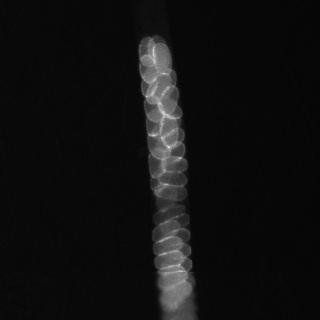embryo: (151, 68, 177, 99), (160, 283, 192, 308), (161, 270, 197, 292), (147, 73, 172, 103), (160, 114, 180, 148), (149, 163, 174, 190), (147, 35, 168, 67), (154, 250, 185, 270), (154, 185, 180, 208), (152, 42, 171, 73), (139, 54, 159, 83), (158, 85, 178, 114), (147, 135, 171, 159), (153, 220, 180, 241), (153, 236, 184, 254), (144, 97, 165, 123), (154, 184, 186, 201), (153, 206, 187, 222), (158, 267, 187, 285), (158, 98, 182, 119), (139, 37, 156, 66), (146, 109, 164, 136), (164, 141, 185, 163), (160, 156, 187, 173), (148, 154, 166, 179), (159, 172, 187, 186), (141, 73, 157, 97), (176, 238, 191, 259), (174, 227, 190, 244), (174, 213, 189, 229), (178, 256, 192, 271)
